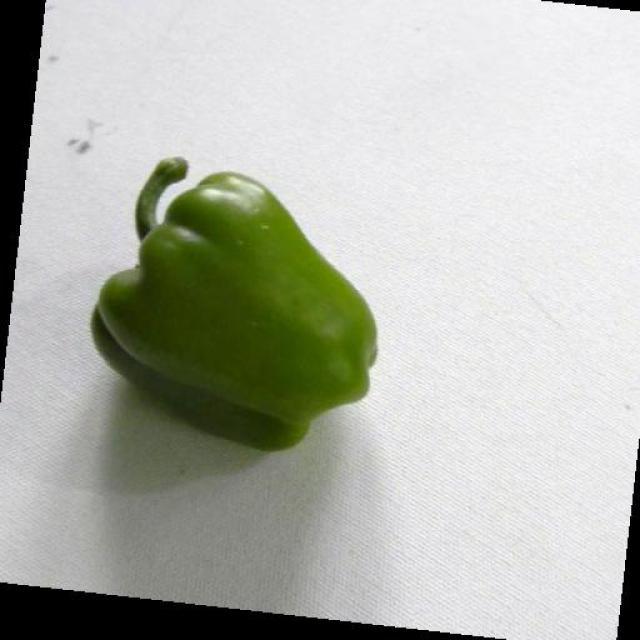Fresh_Capsicum: (124, 197, 367, 422)
